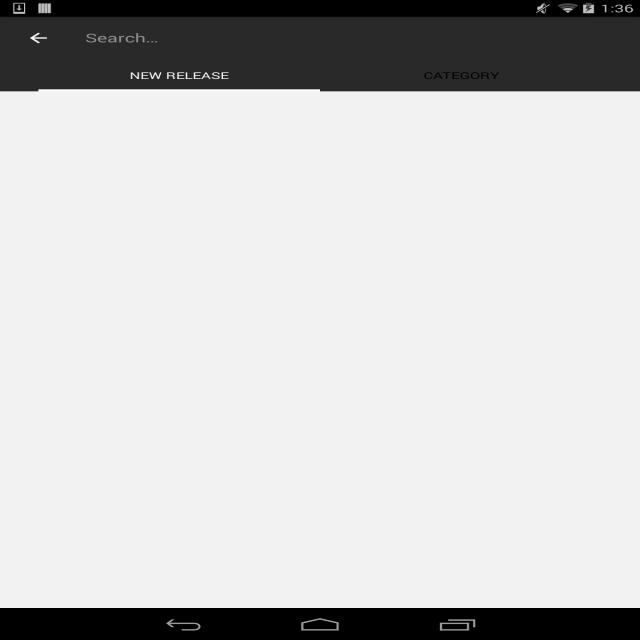EditText: (74, 29, 621, 50)
ImageButton: (21, 21, 63, 54)
TextView: (113, 67, 256, 88), (427, 62, 508, 87)
